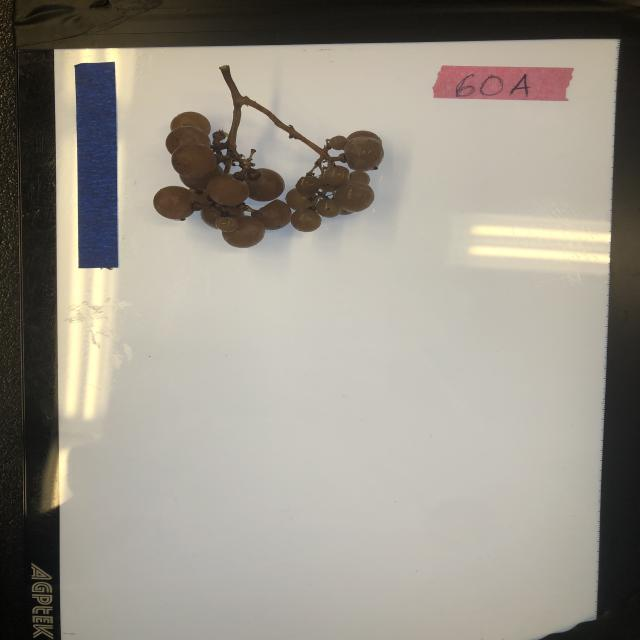grape_cluster: (151, 62, 385, 251)
index: (430, 63, 574, 102)
measure_label: (71, 59, 119, 270)
